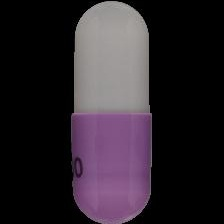53808-1052: (0, 0, 224, 224)
